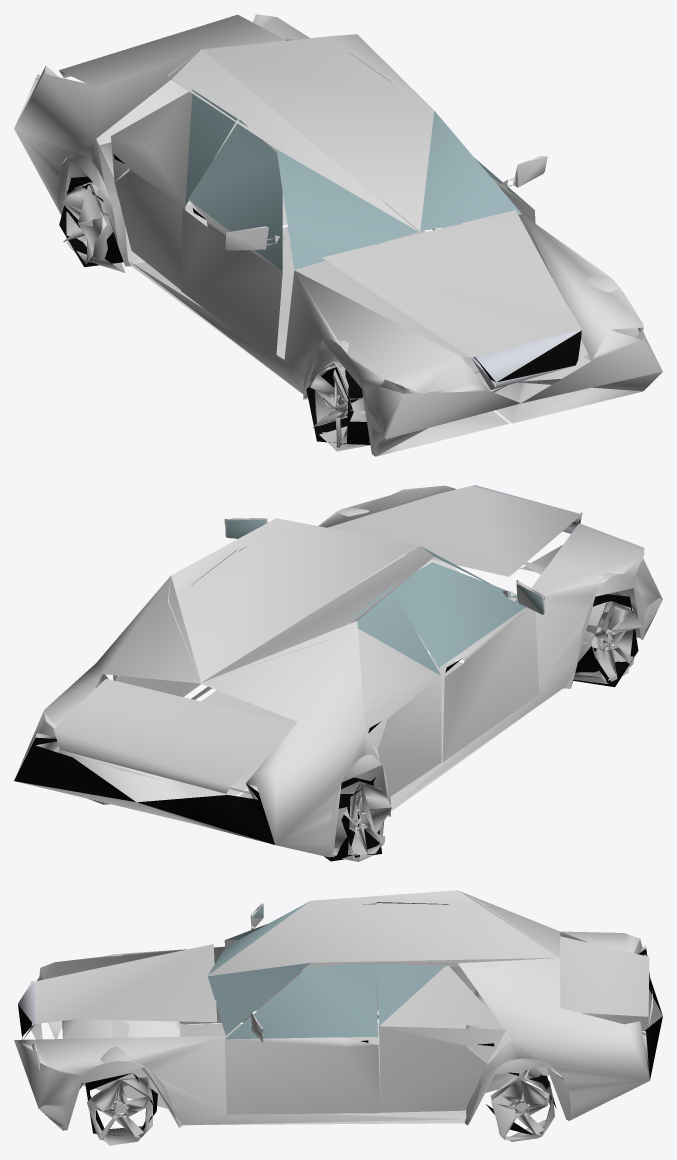
Rendered from coche14_lejos.glb.
3 renders of one model, top to bottom at view 1: azimuth 30°, elevation 25°; view 2: azimuth 150°, elevation 25°; view 3: azimuth 270°, elevation 25°, orthographic. The views are drawn at different scales.
Parts seen in each view (by area): view 1: coche14; view 2: coche14; view 3: coche14.
Boxes of the visible parts, x1=… form: coche14: x1=14, y1=14, x2=662, y2=456; coche14: x1=14, y1=485, x2=662, y2=861; coche14: x1=14, y1=890, x2=662, y2=1145.
Bounding box in the file's own units: 2.17 × 1.36 × 4.72.
